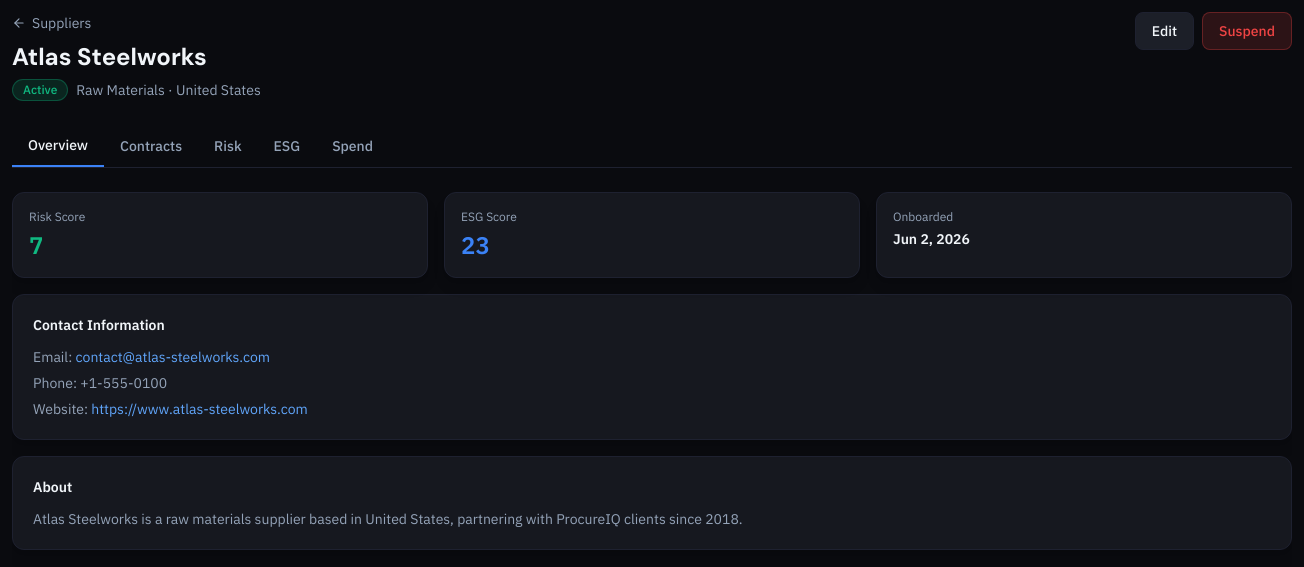
Test: SupplierDetail › Contracts tab shows the supplier contracts table
Step 1. Click the button "Contracts" → x=151, y=146, box x1=104 y1=125 x2=198 y2=167
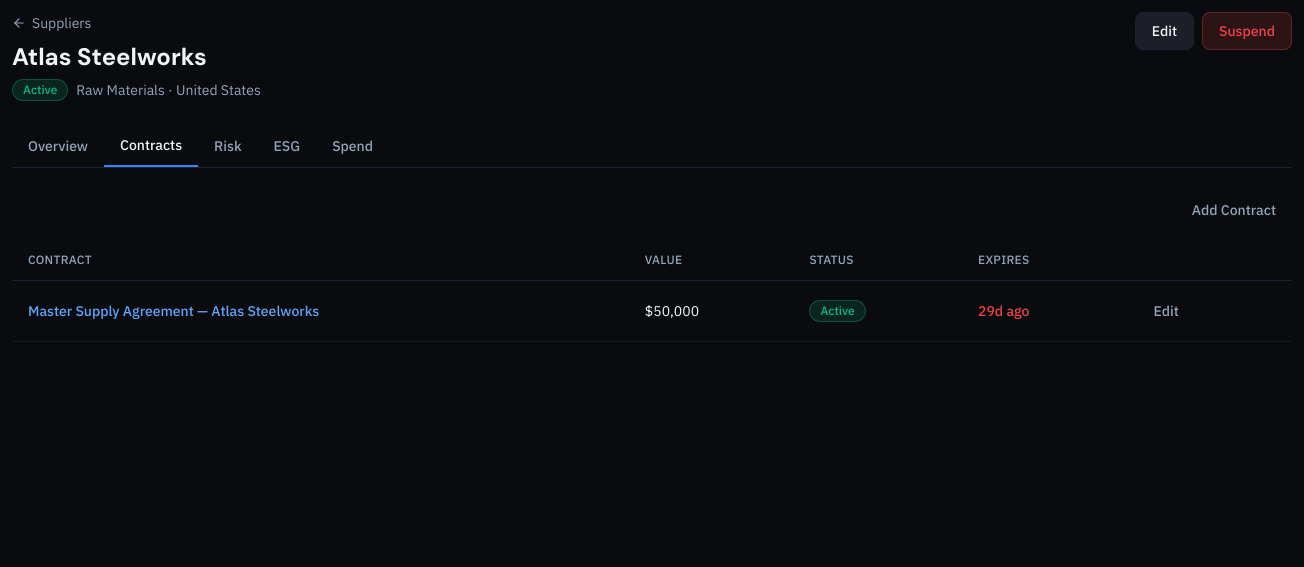
Check: the button "Master Supply Agreement — Atlas Steelworks" is shown, box x1=28 y1=301 x2=319 y2=321
